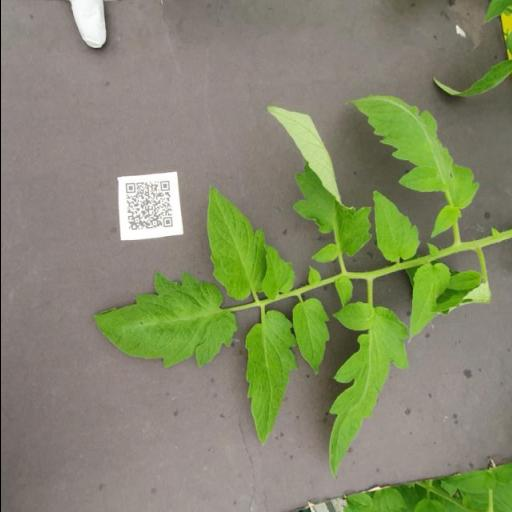Healthy: (342, 94, 478, 238), (328, 302, 408, 480), (92, 270, 236, 368), (244, 308, 298, 445), (204, 182, 266, 300), (371, 192, 419, 262), (408, 263, 450, 343), (292, 298, 330, 376), (260, 244, 294, 300)
